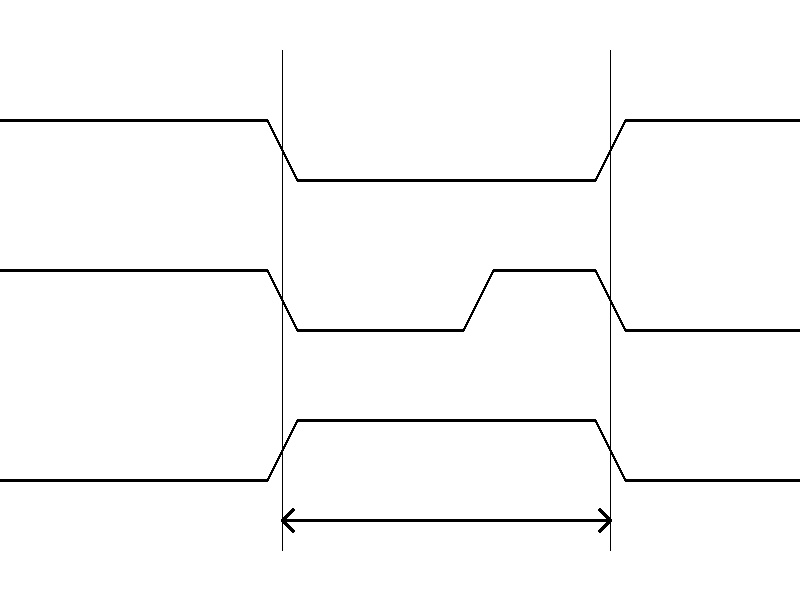double_arrow: (282, 505, 610, 535)
